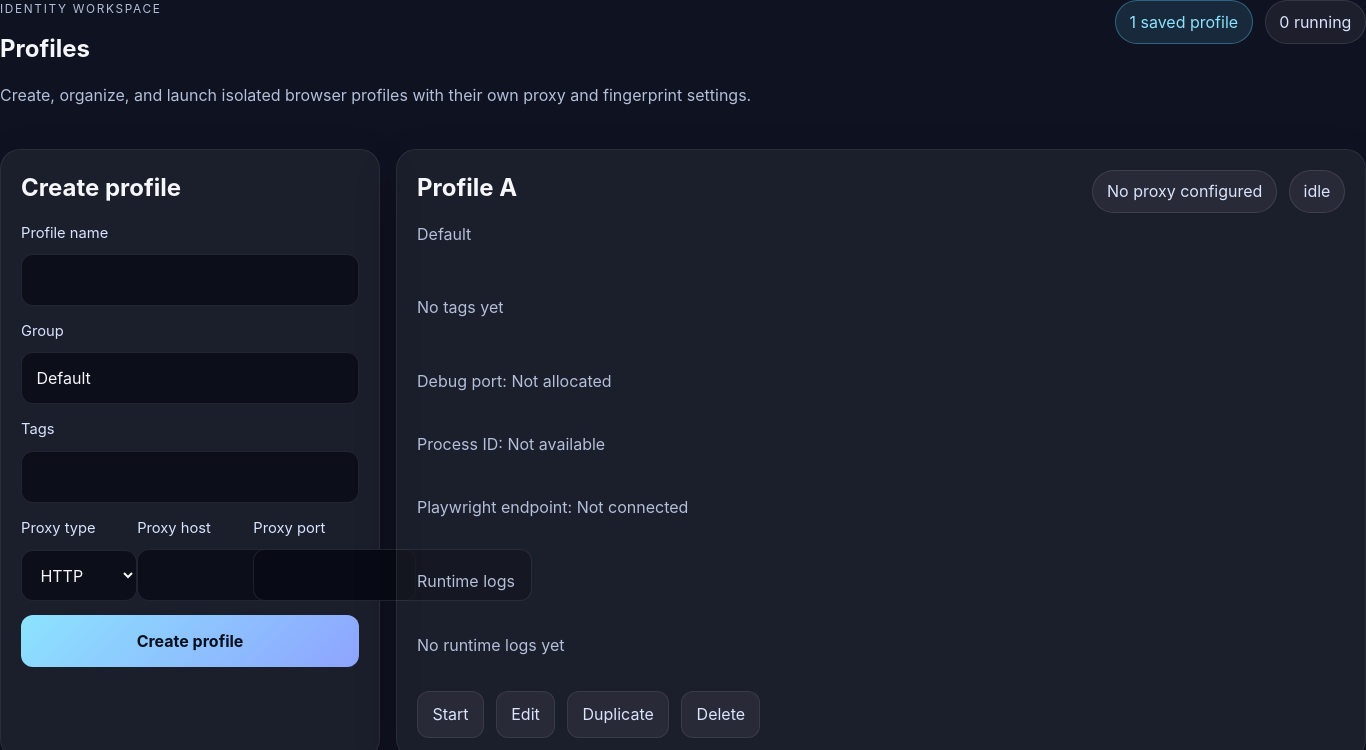
ProfilesPage › shows the native process id when a profile launches through the desktop bridge
Click the button with aria-label "start profile a". click: [450, 714]
box: [417,691,484,738]
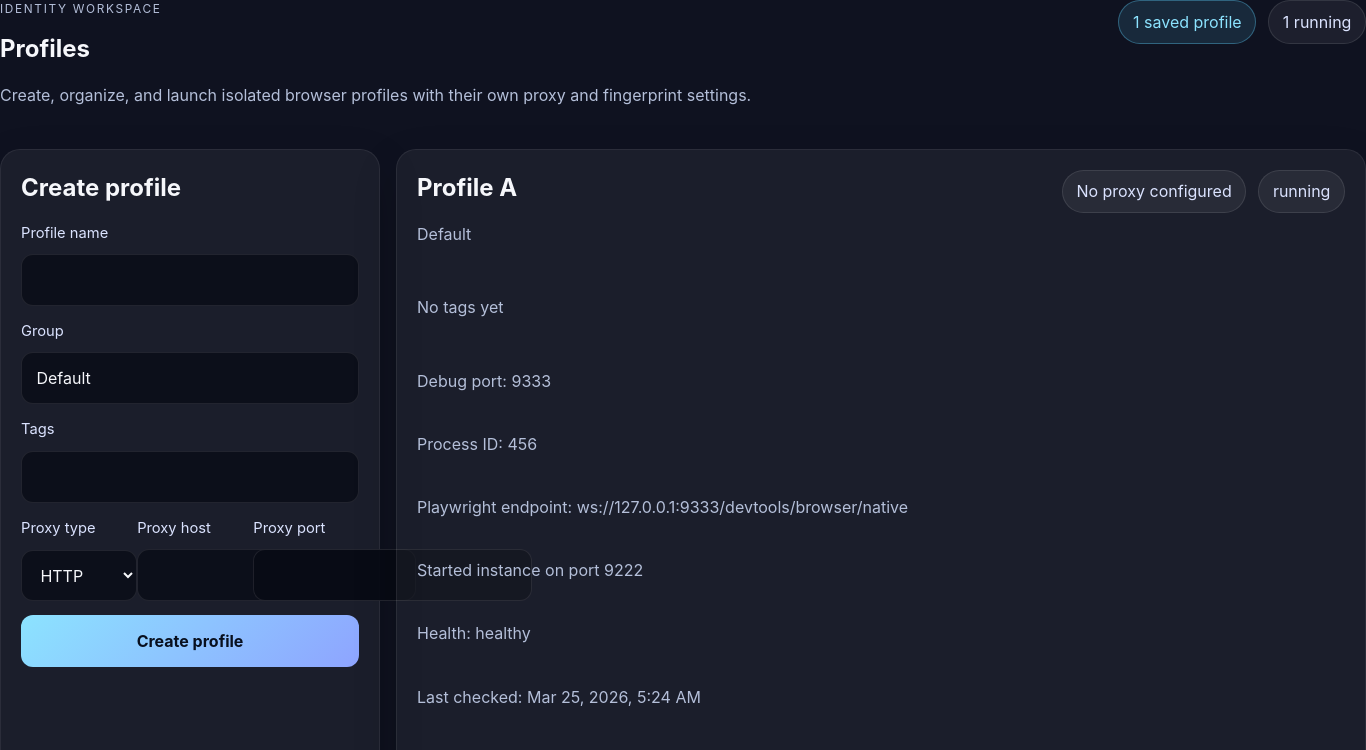
Expected: the text "Debug port: 9333" is shown, [417,371,551,391]
Expected: the text "Process ID: 456" is shown, [417,434,537,454]
